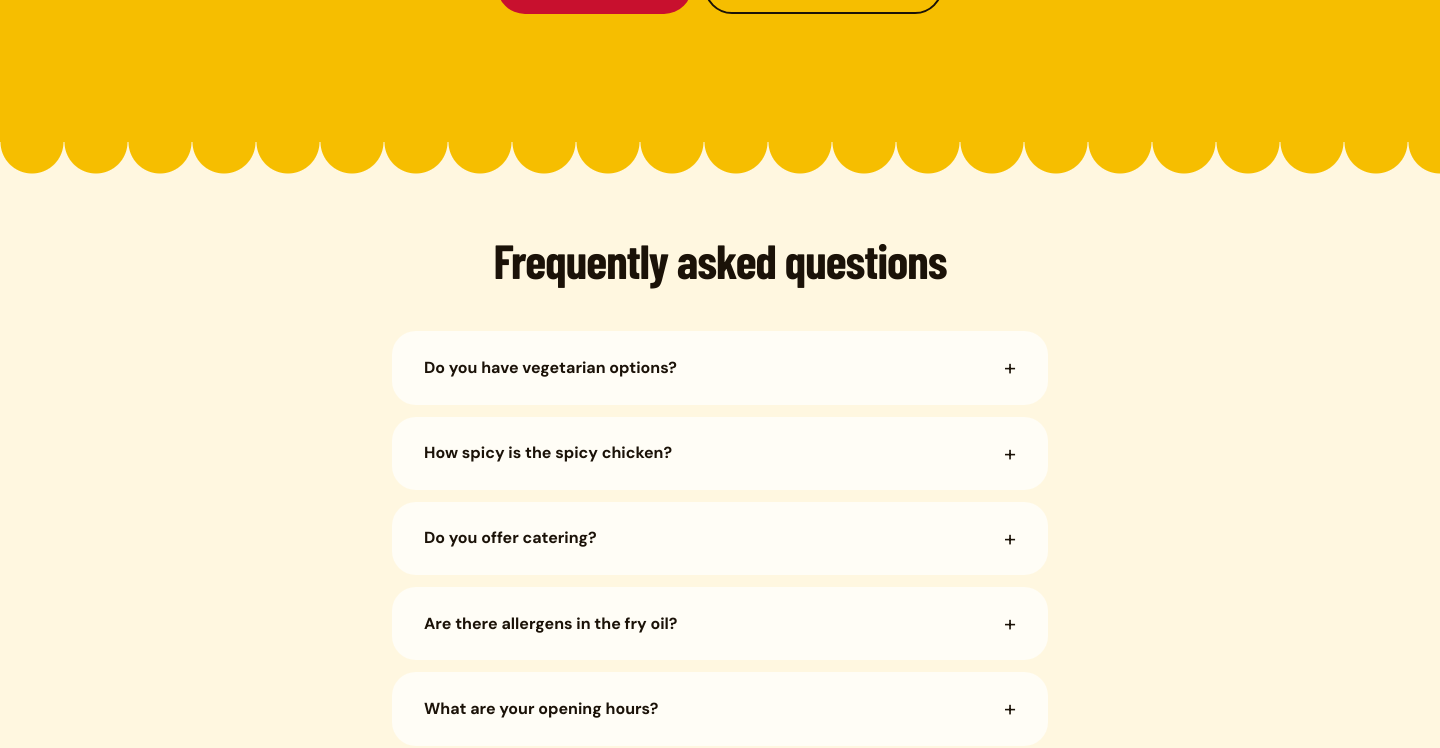
Test: Home page › opens a FAQ answer when its question is pressed
(page scrolled)
Click the button "Do you offer catering? +": x=510, y=538 [392,502,1048,575]
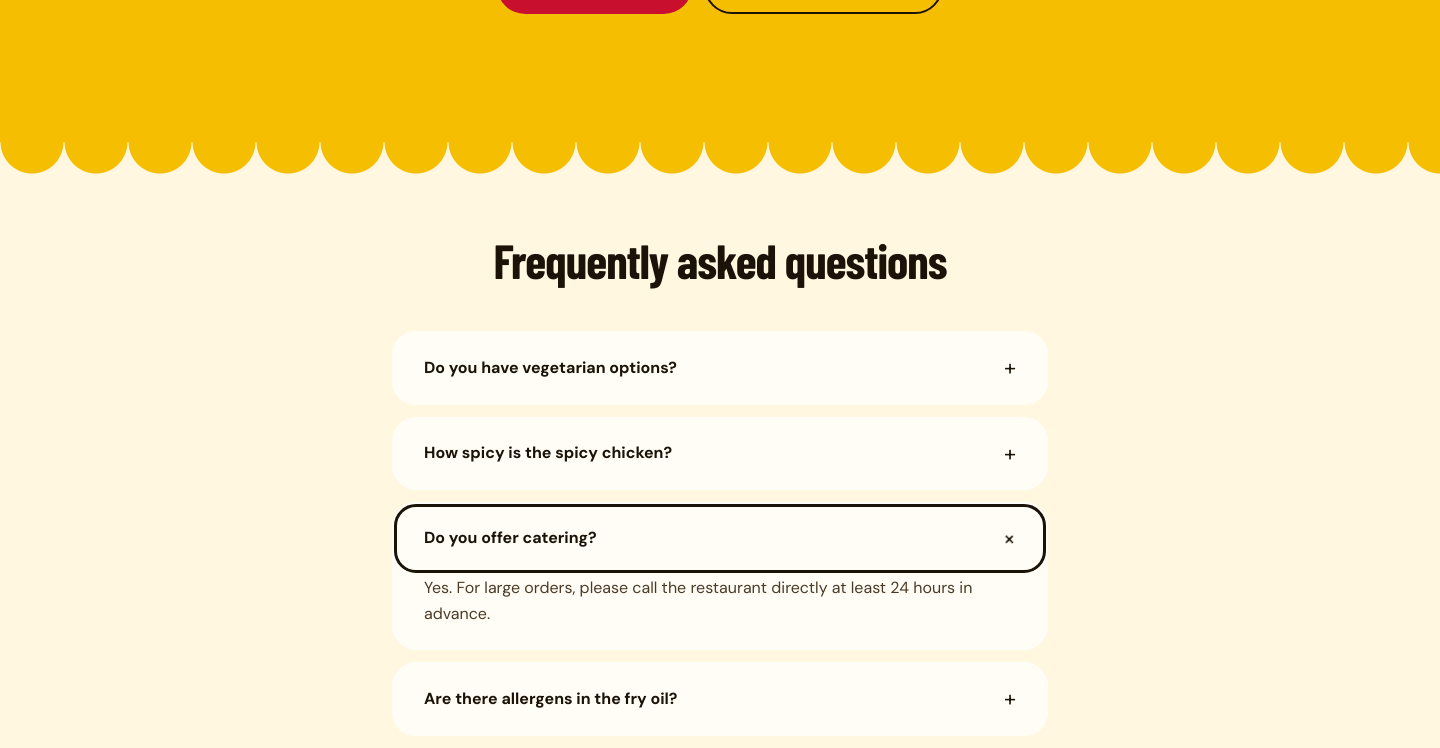
Check: the button "Do you offer catering? +" is expanded, box [392,502,1048,575]
